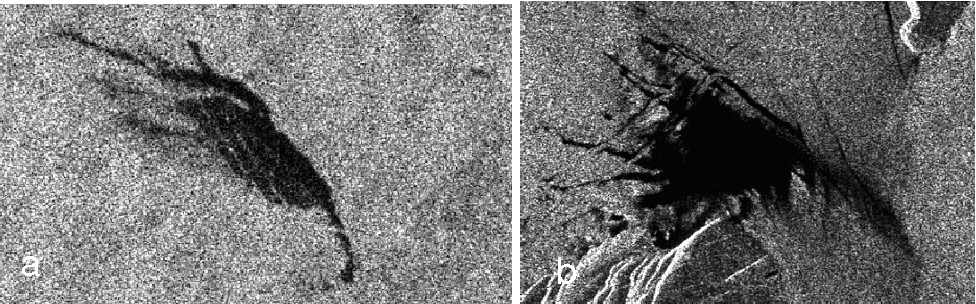anomaly: (554, 51, 951, 283)
